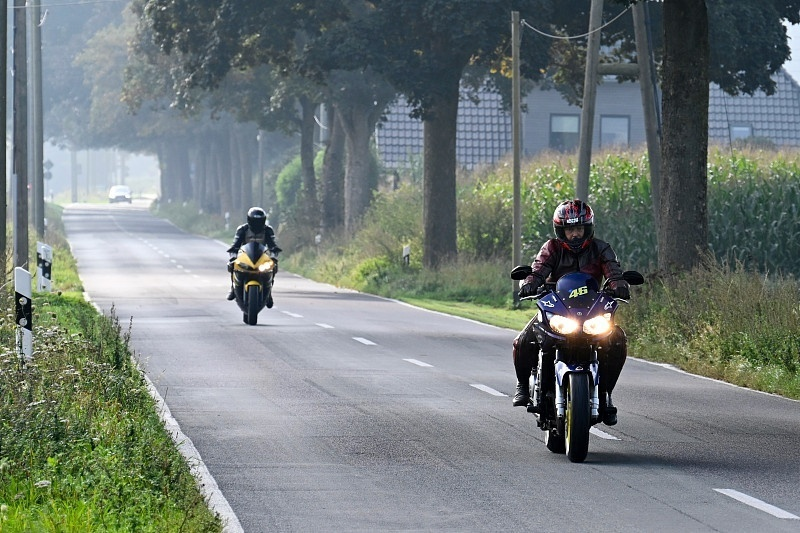non-vehicle: (512, 257, 637, 459), (226, 244, 277, 324)
